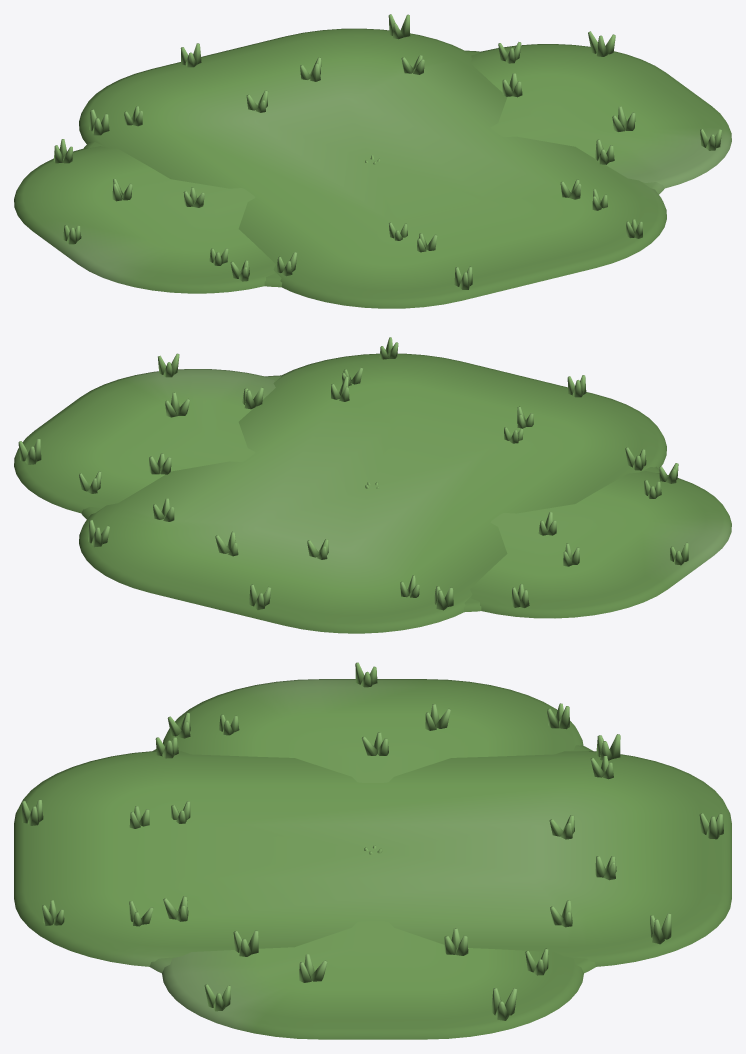
File: grass_patch.glb
The picture shows the model from 3 angles, top to bottom: view 1: azimuth 30°, elevation 25°; view 2: azimuth 150°, elevation 25°; view 3: azimuth 270°, elevation 25°; orthographic projection. The views are drawn at different scales.
Visible parts, largest first — view 1: grass_patch_3, grass_patch_2, grass_patch_1; view 2: grass_patch_3, grass_patch_2, grass_patch_1; view 3: grass_patch_3, grass_patch_2, grass_patch_1.
Part boxes in pixels (left/top/right/bottom): grass_patch_3: left=79, top=14, right=666, bottom=308; grass_patch_2: left=14, top=31, right=731, bottom=293; grass_patch_1: left=84, top=42, right=664, bottom=287; grass_patch_3: left=79, top=337, right=666, bottom=633; grass_patch_2: left=14, top=353, right=731, bottom=618; grass_patch_1: left=79, top=367, right=661, bottom=612; grass_patch_3: left=14, top=732, right=731, bottom=966; grass_patch_2: left=162, top=662, right=583, bottom=1039; grass_patch_1: left=129, top=704, right=616, bottom=982.
Size of the model in its own units: 4 by 0.1602 by 3.4.
